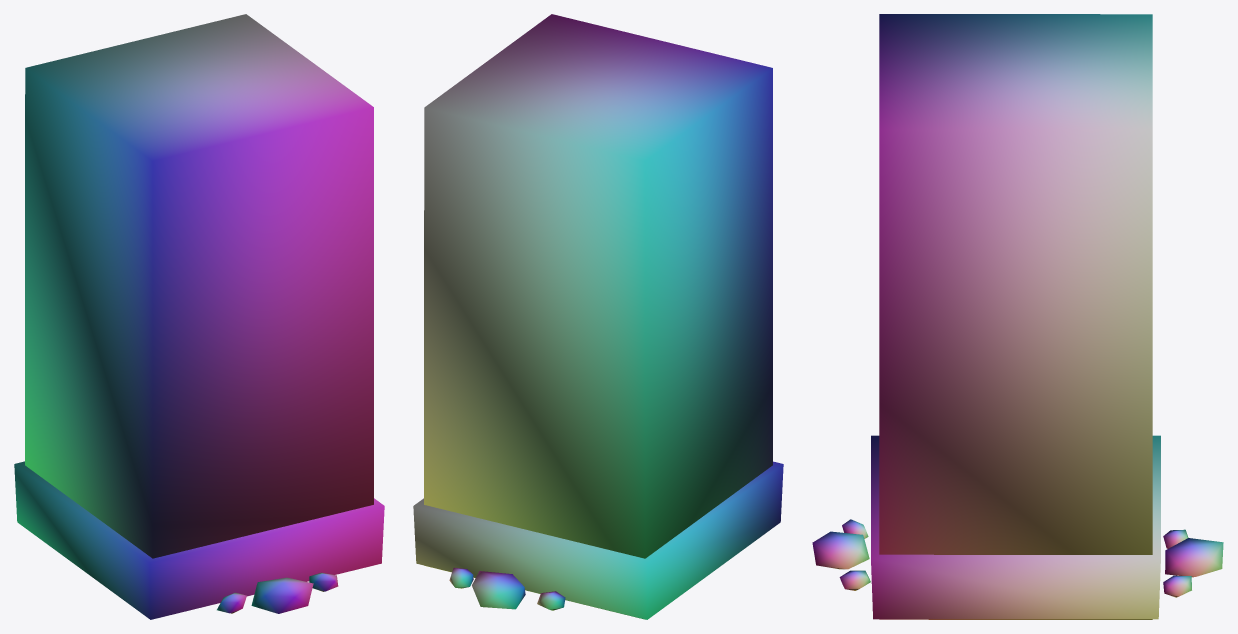
Rendered from SM_Pit_Wall_B.fbx.
3 views of the same model, side by side, from view 1: azimuth 30°, elevation 25°; view 2: azimuth 150°, elevation 25°; view 3: azimuth 270°, elevation 25° (orthographic). The views are drawn at different scales.
Parts seen in each view (by area): view 1: SM_Pit_Wall_B; view 2: SM_Pit_Wall_B; view 3: SM_Pit_Wall_B.
Boxes of the visible parts, box(x1,y1,x2,y2) form: SM_Pit_Wall_B: box(14, 14, 384, 619); SM_Pit_Wall_B: box(413, 14, 783, 619); SM_Pit_Wall_B: box(812, 14, 1223, 619).
Bounding box in the file's own units: 1.08 × 2.05 × 1.54.
